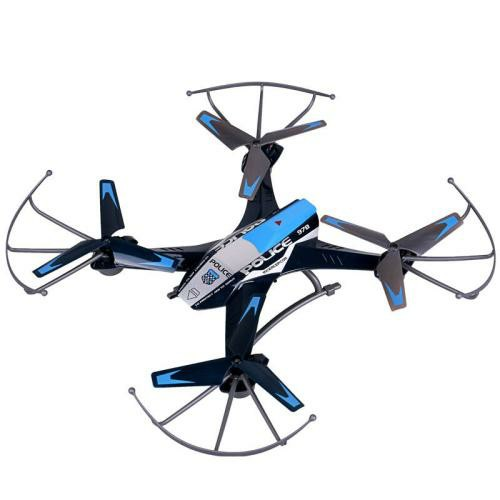未知品牌四旋翼无人机: (1, 80, 495, 459)
